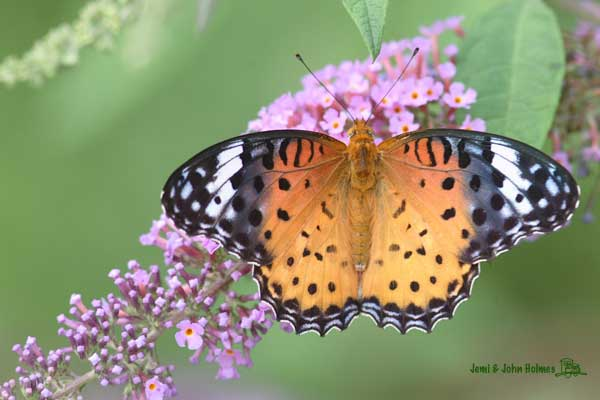Argyreus hyperbius: (153, 39, 583, 339)
butterfly: (155, 41, 585, 341)
